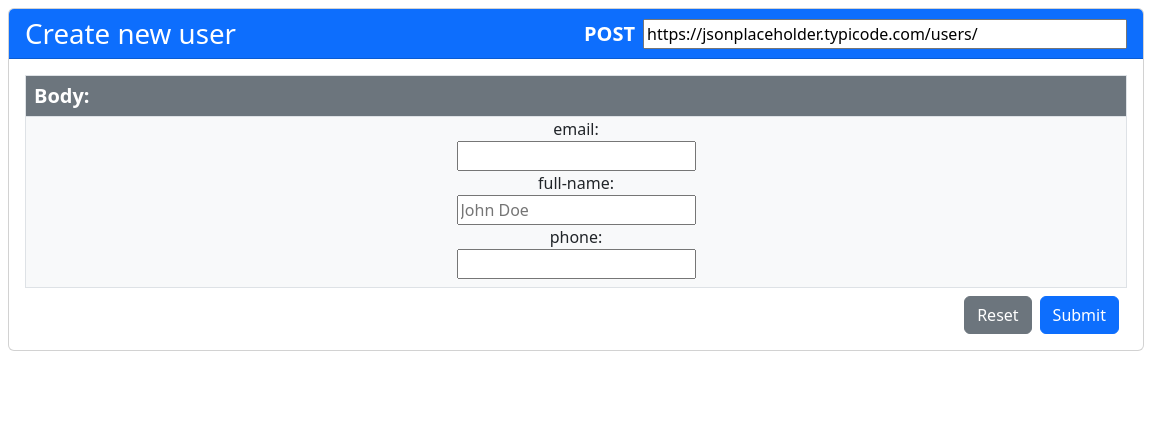
Test: EndpointExplorer › Handles submission errors
This screenshot has width=1152, height=426.
Type "j@google.com" into the element showing "email:" at point(577, 145), box [457,118,696,171]
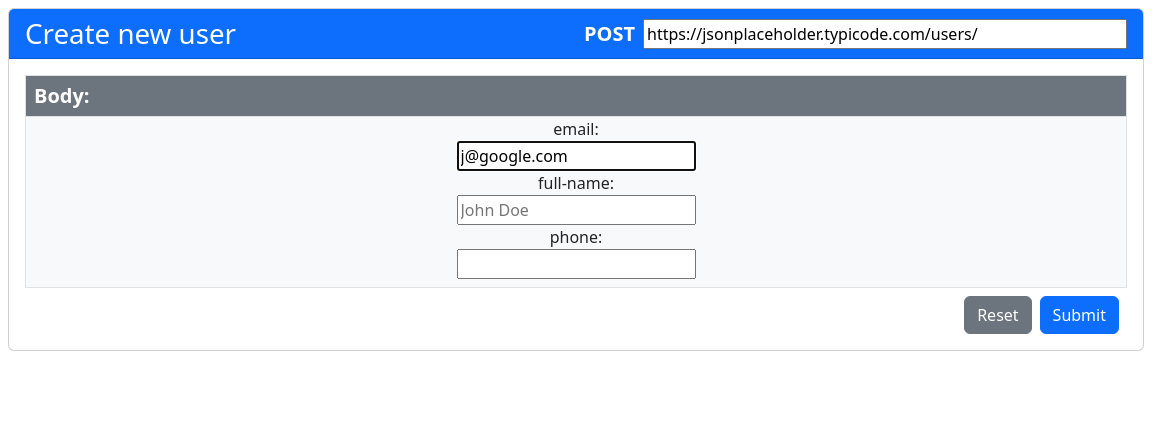
Type "John Rogers" into the element showing "full-name:" at point(577, 199), box [457,172,696,225]
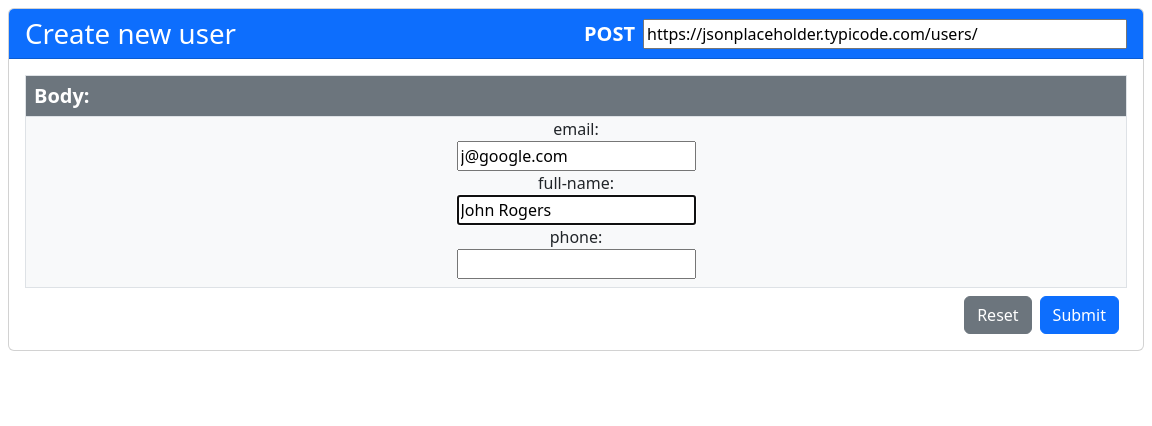
Type "2817874098" into the element showing "phone:" at point(577, 253), box [457,226,696,279]
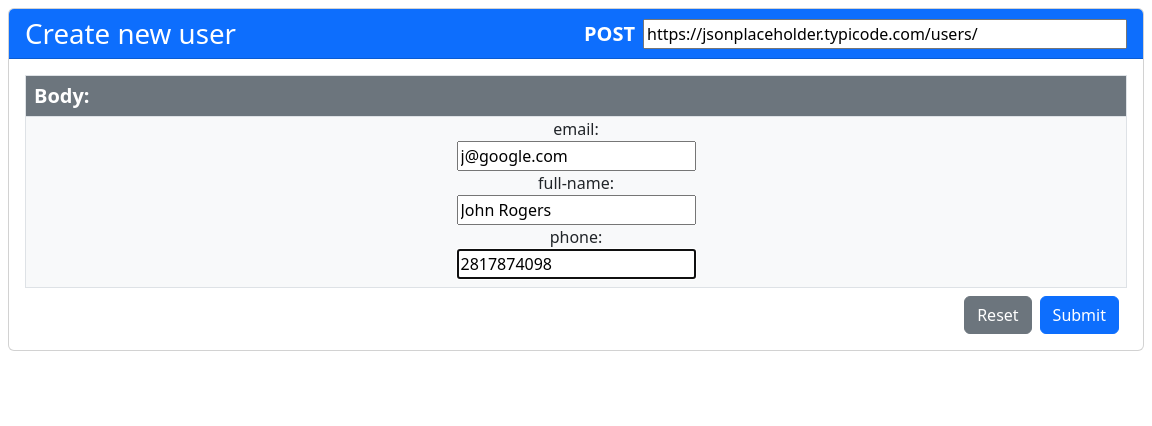
Click the button with test id "RequestForm__submitButton" at point(1080, 315), box [1040,296,1119,334]
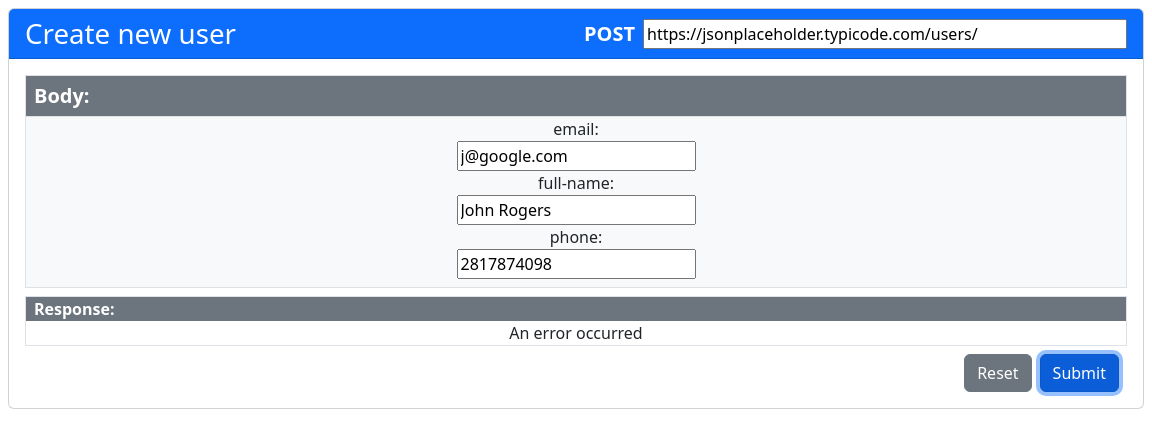
Expected: the text "An error occurred" is shown, [509,322,643,344]
